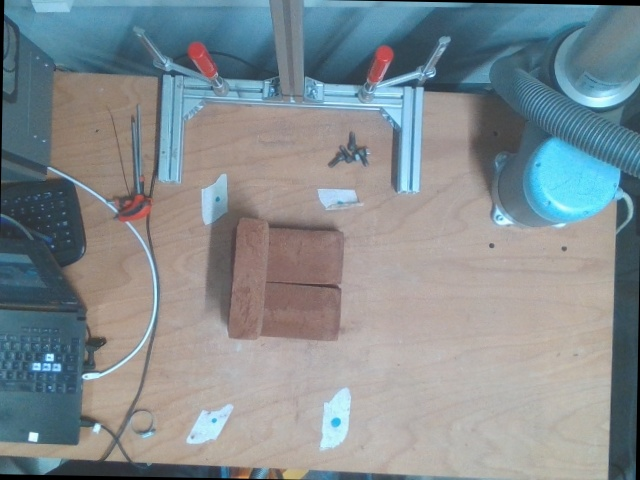brick-side: (228, 220, 269, 335)
